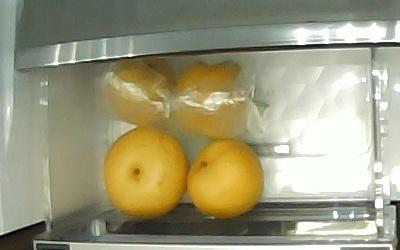pear: (102, 125, 190, 219), (185, 137, 264, 218)
pear_vinyl: (169, 58, 248, 138), (103, 61, 177, 126)
